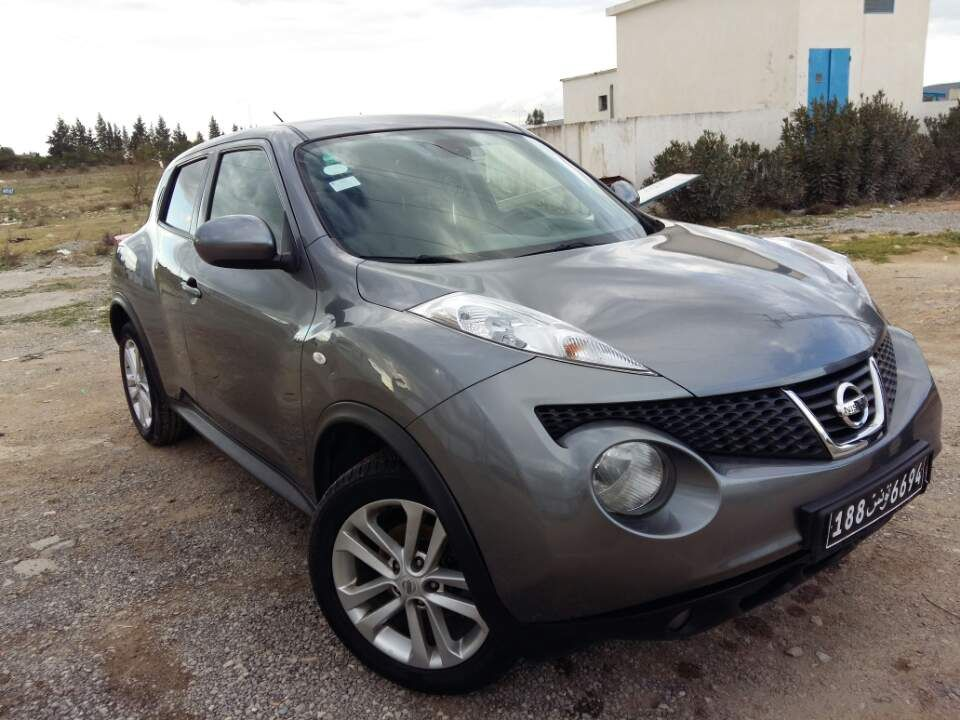LP: (825, 458, 933, 550)
